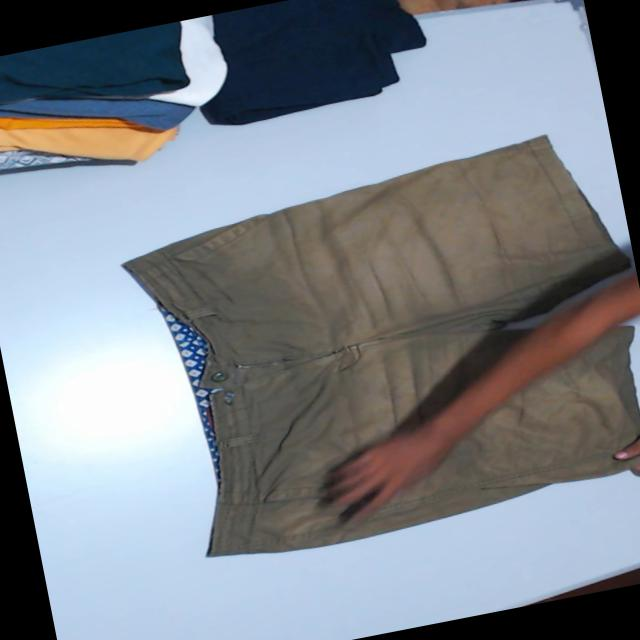new-garment: (125, 136, 640, 555)
